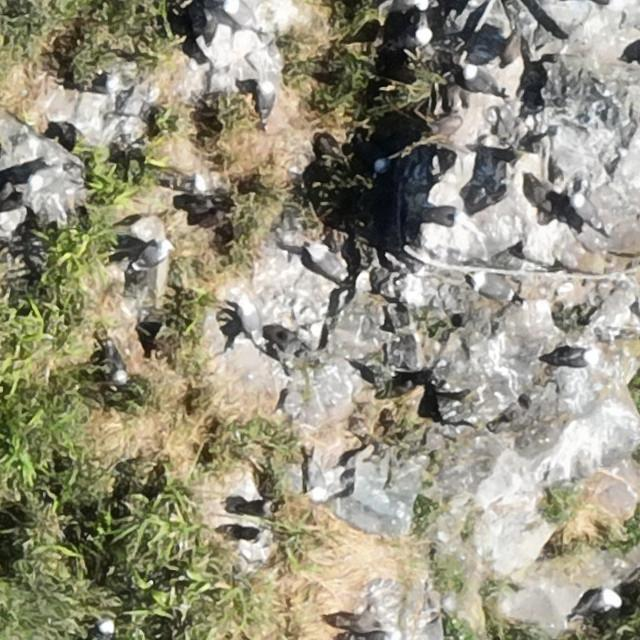umineko: (468, 273, 516, 303), (309, 246, 349, 280), (237, 294, 262, 348), (132, 240, 172, 272), (387, 26, 437, 51), (570, 193, 604, 229), (28, 162, 68, 190), (464, 64, 501, 94), (102, 344, 127, 387), (225, 2, 259, 32), (303, 458, 326, 501), (550, 348, 596, 368), (585, 592, 619, 612), (86, 75, 120, 94), (259, 82, 275, 114), (97, 618, 113, 638)
